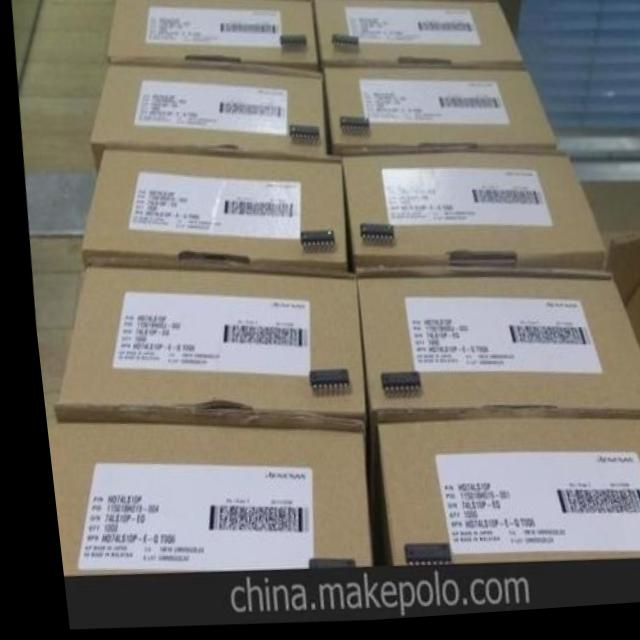box: (43, 264, 353, 427), (37, 424, 358, 578), (350, 274, 640, 424), (363, 420, 640, 569), (74, 152, 341, 276), (339, 156, 598, 277), (86, 64, 323, 176), (320, 71, 551, 159), (105, 0, 319, 76), (313, 0, 519, 75), (599, 244, 640, 379), (571, 188, 640, 265)
